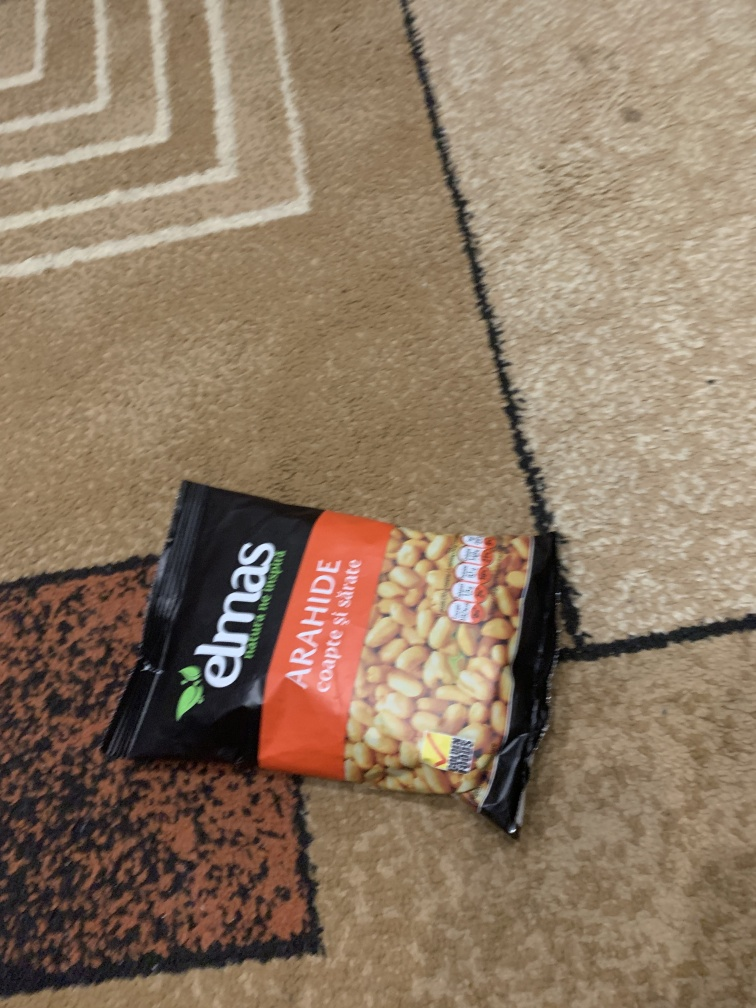peanuts: (94, 473, 570, 850)
